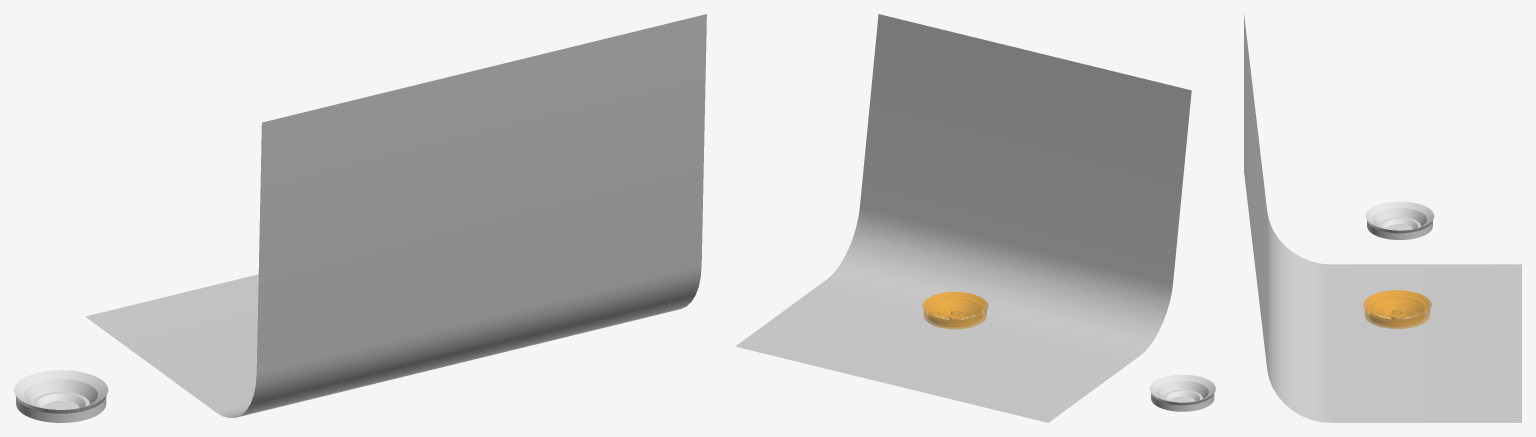
The picture shows the model from 3 angles, left to right: view 1: azimuth 30°, elevation 25°; view 2: azimuth 150°, elevation 25°; view 3: azimuth 270°, elevation 25°; orthographic projection. The views are drawn at different scales.
Visible parts, largest first — view 1: Plane, Circle; view 2: Plane, Circle, LID_B, 3D_print_lid_final_TOP_!; view 3: Plane, Circle, LID_B, 3D_print_lid_final_TOP_!.
Part boxes in pixels (<box>): Plane: <box>85,14,706,417</box>; Circle: <box>14,370,108,422</box>; Plane: <box>735,14,1191,422</box>; Circle: <box>1149,374,1215,411</box>; LID_B: <box>922,292,987,328</box>; 3D_print_lid_final_TOP_!: <box>924,292,985,319</box>; Plane: <box>1244,14,1521,422</box>; Circle: <box>1365,201,1434,239</box>; LID_B: <box>1363,291,1431,328</box>; 3D_print_lid_final_TOP_!: <box>1365,290,1429,319</box>.
Size of the model in its own units: 669 by 370 by 372.
